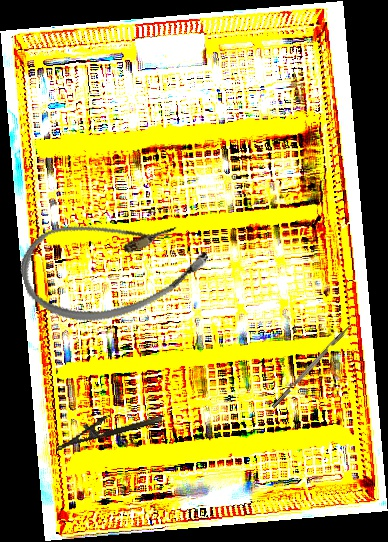Cannula: (11, 187, 217, 340)
Chopper: (267, 316, 357, 409)
Needle Holder: (52, 402, 163, 451)
